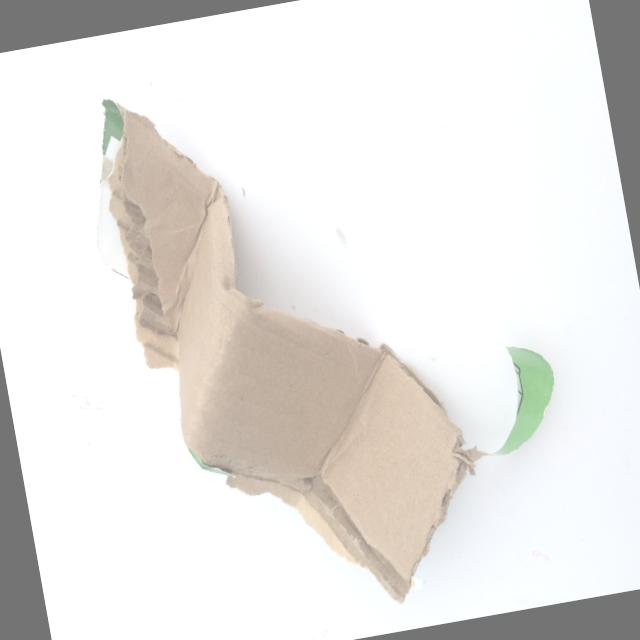Cardboard: (53, 6, 600, 640)
